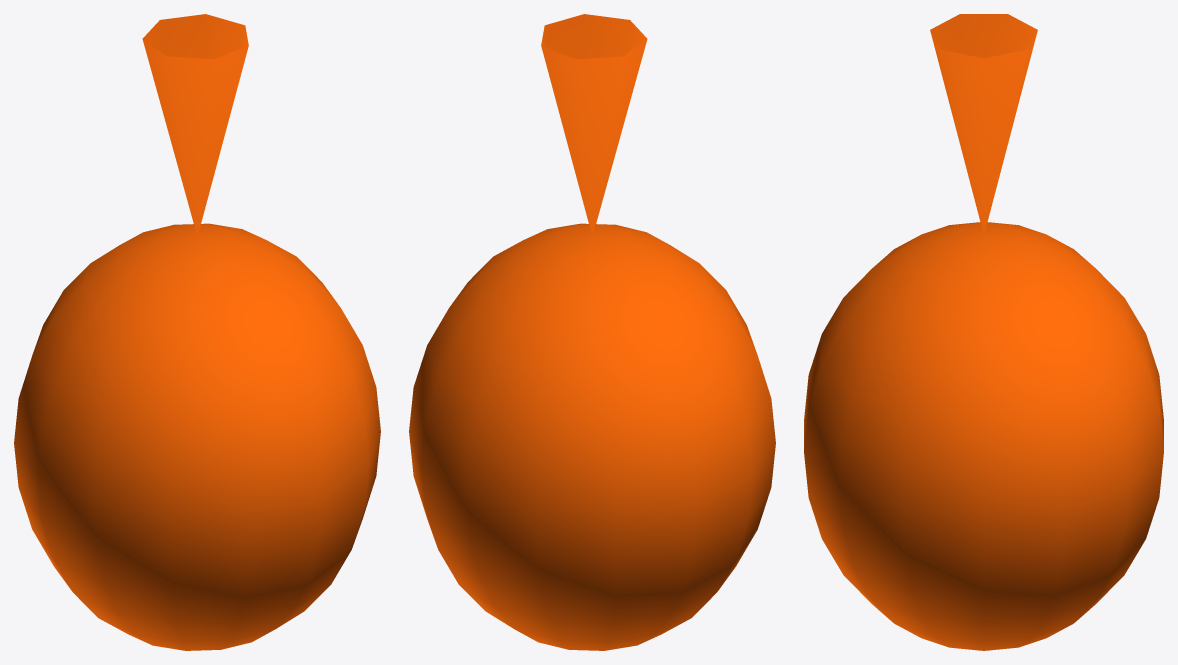
The model's file is Fênix Fuligem_stage3.obj.
3 views of the same model, side by side, from view 1: azimuth 30°, elevation 25°; view 2: azimuth 150°, elevation 25°; view 3: azimuth 270°, elevation 25° (orthographic).
Size of the model in its own units: 2.6 by 4.68 by 2.53.
